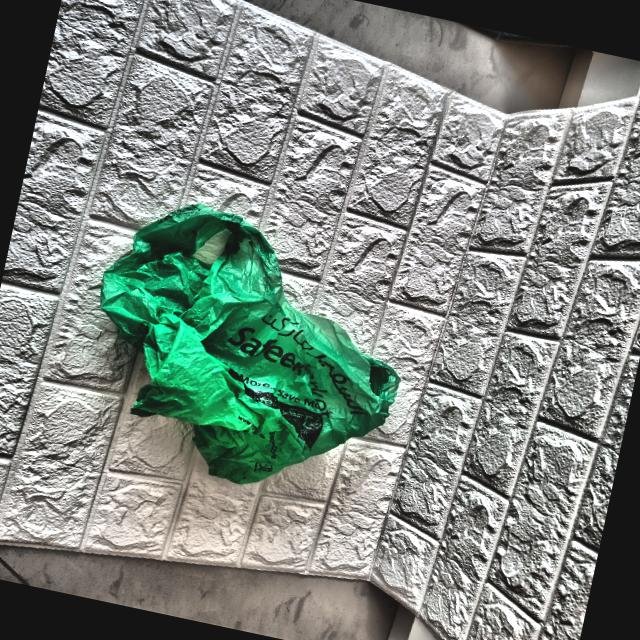plastic bag: (53, 173, 429, 521)
